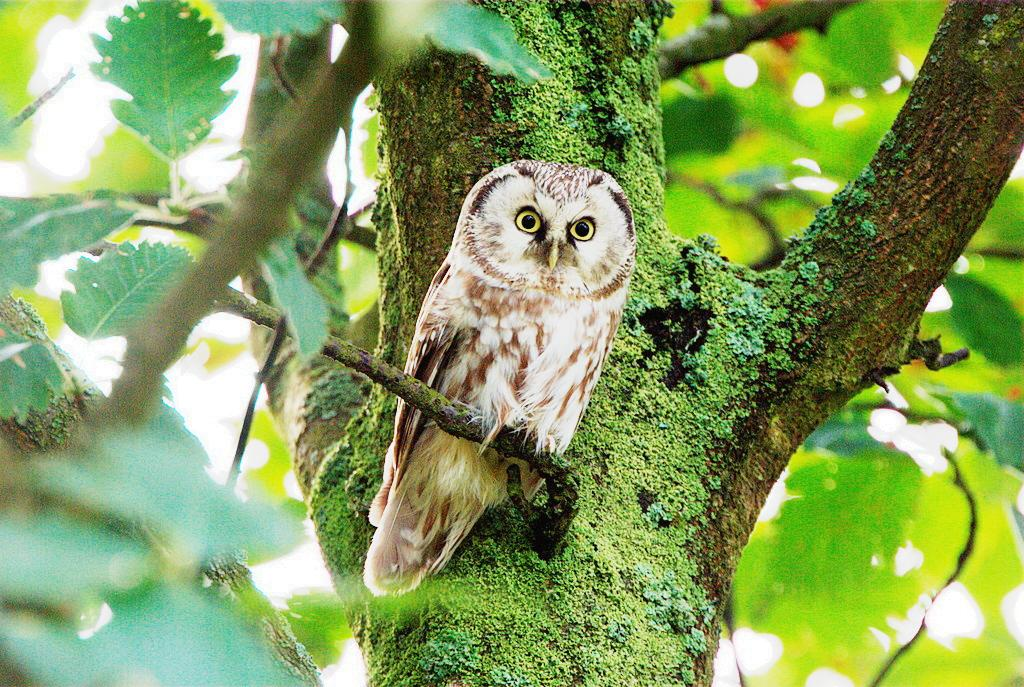Owl: (364, 162, 638, 598)
